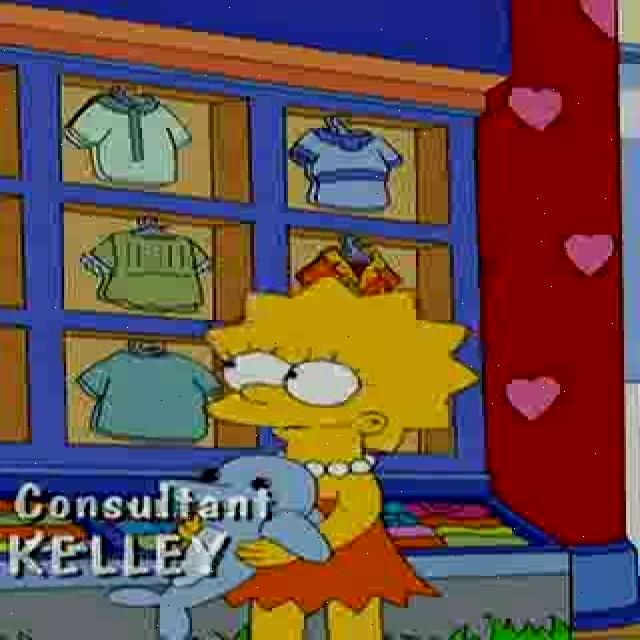Lisa Simpson: (206, 276, 482, 470)
